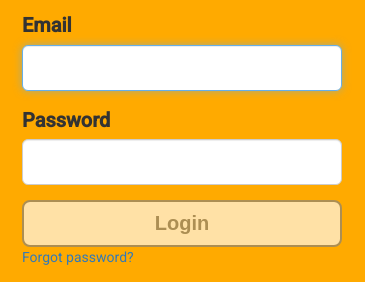
Test: Login unit › Clicar no botão entrar com os campos preenchidos
The width and height of the screenshot is (365, 282).
Type "emailParam" into the field named "form_06" at point(182, 68), box [22,45,342,91]
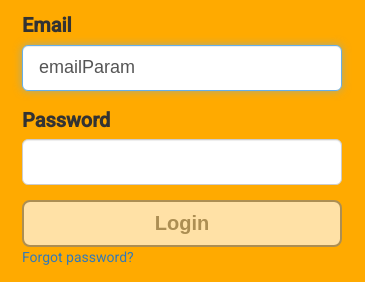
Type "senhaParam" into the password field named "form_07" at point(182, 162), box [22,139,342,185]
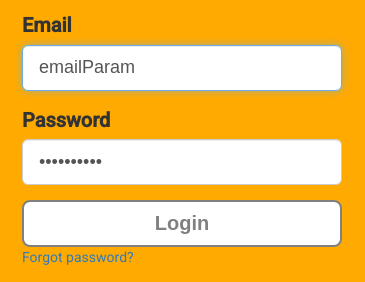
Now the button with id "botao_07" is enabled, box [22,200,342,247]
